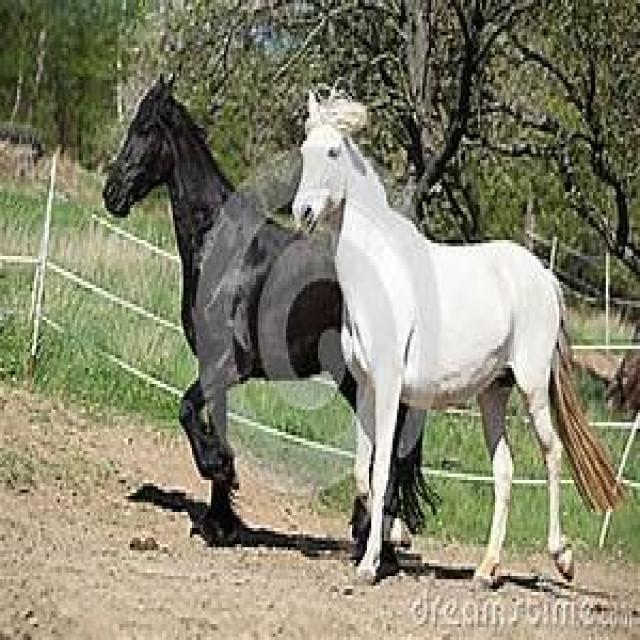horse: (290, 80, 623, 589), (100, 70, 440, 554)
